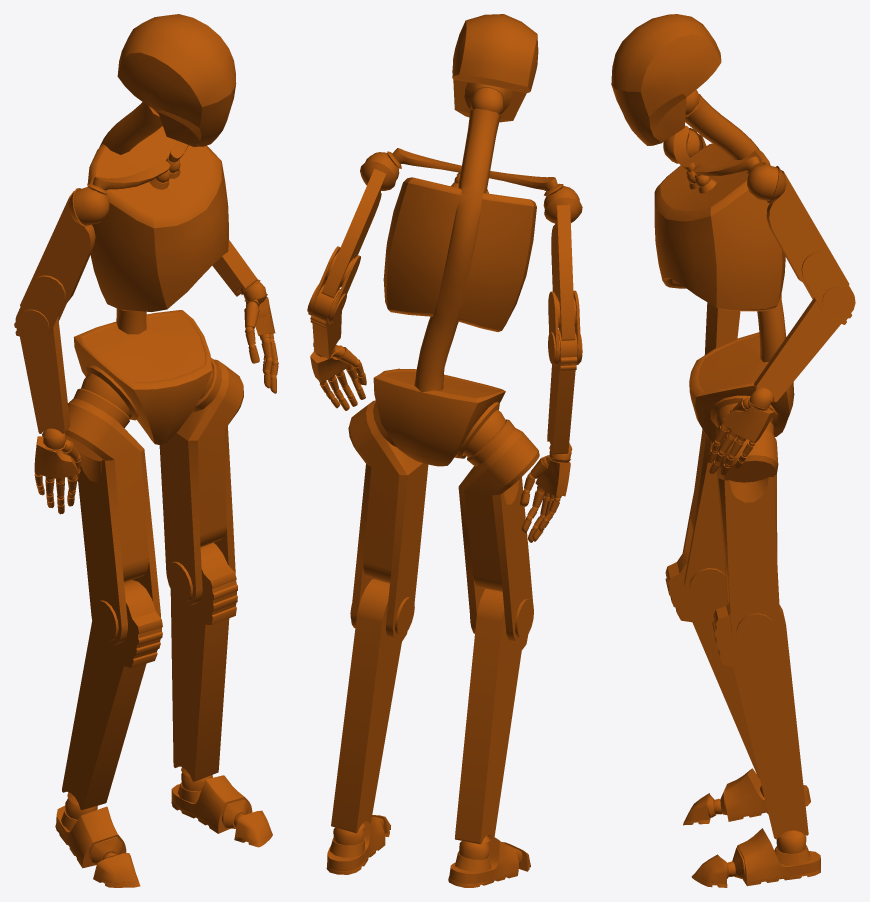
The model's file is RobotAnimacja_000008.obj.
The picture shows the model from 3 angles, left to right: view 1: azimuth 30°, elevation 25°; view 2: azimuth 150°, elevation 25°; view 3: azimuth 270°, elevation 25°; orthographic projection. The views are drawn at different scales.
Visible parts, largest first — view 1: free3dmodel.001; view 2: free3dmodel.001; view 3: free3dmodel.001.
Part boxes in pixels (left/top/right/bottom): free3dmodel.001: left=14, top=14, right=278, bottom=887; free3dmodel.001: left=307, top=14, right=582, bottom=887; free3dmodel.001: left=611, top=14, right=855, bottom=887.
Size of the model in its own units: 1.93 by 5.96 by 1.61.
